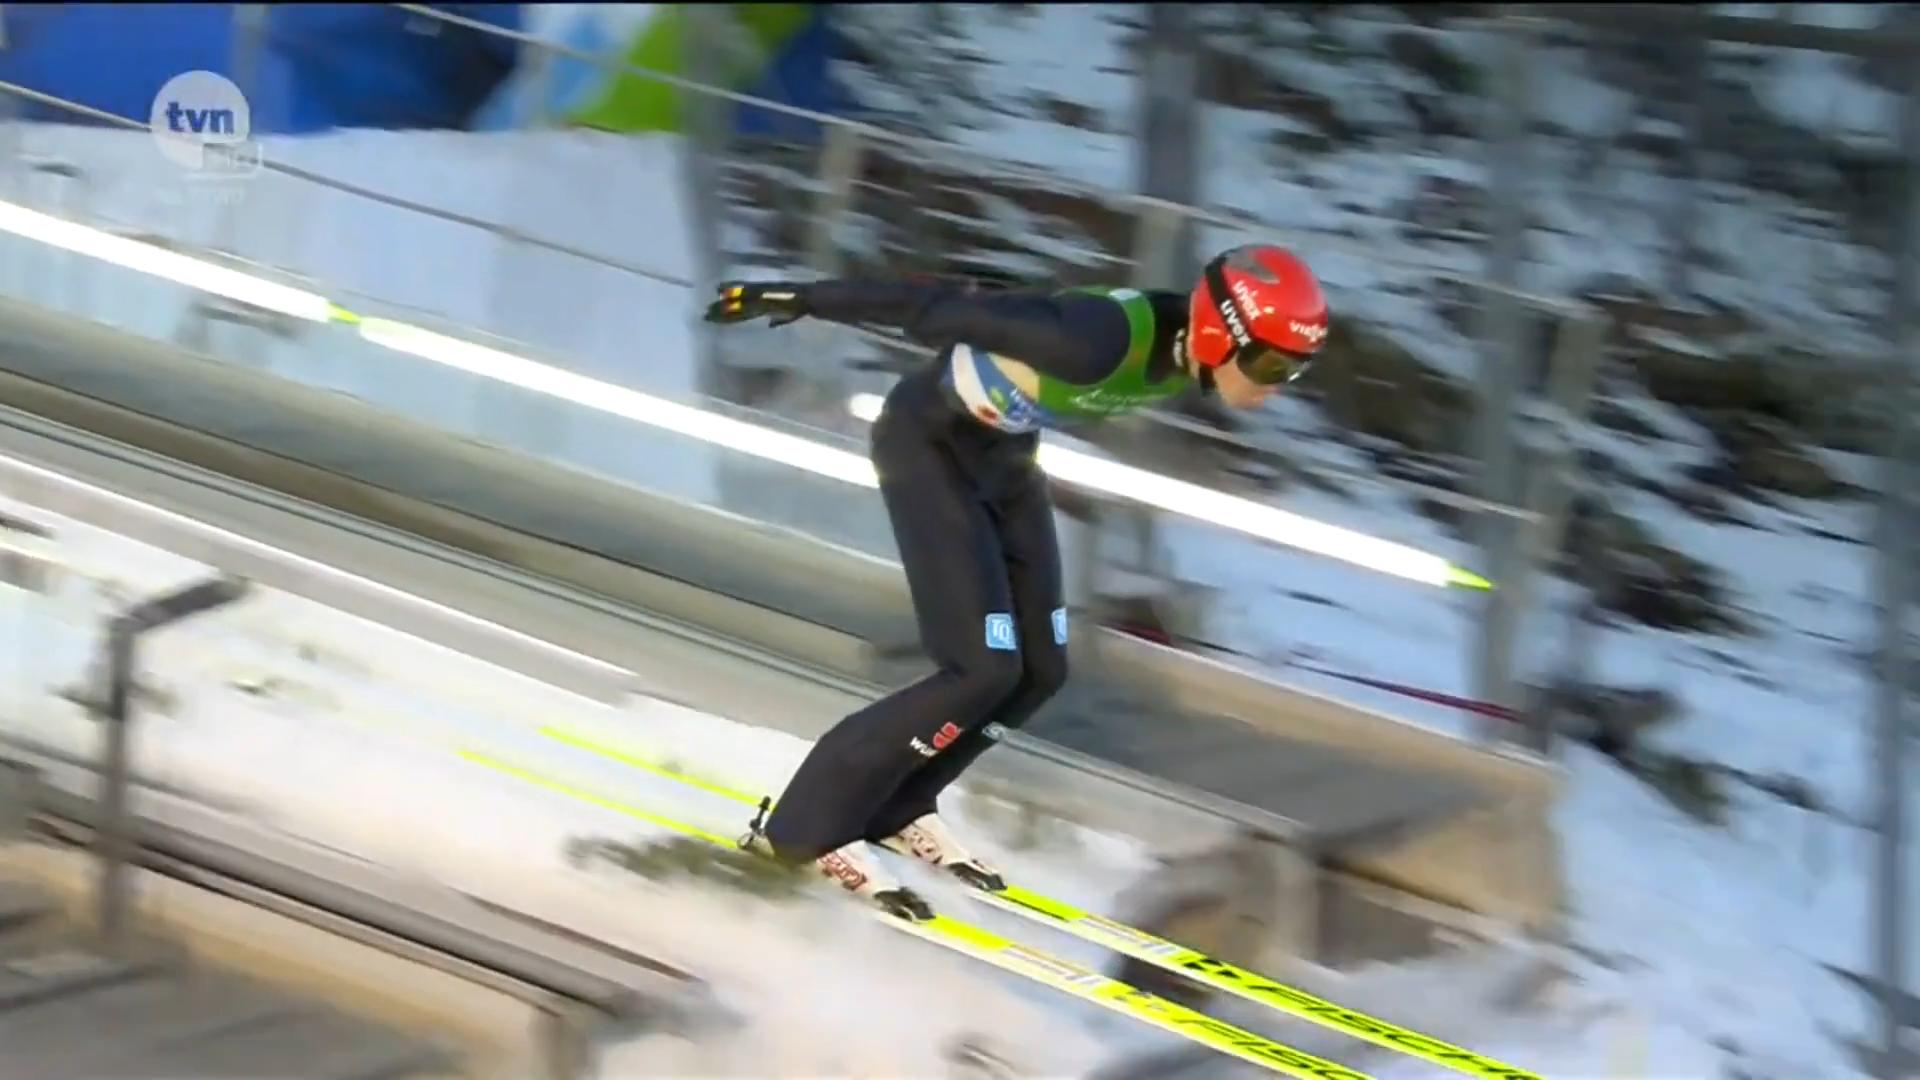prog: (1158, 790, 1491, 873)
